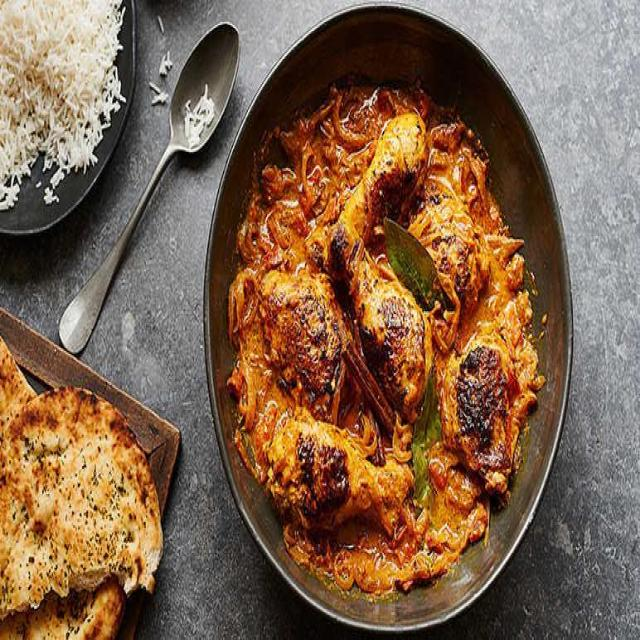chicken: (234, 56, 546, 586)
rice: (0, 3, 137, 213)
roti: (0, 355, 152, 640)
